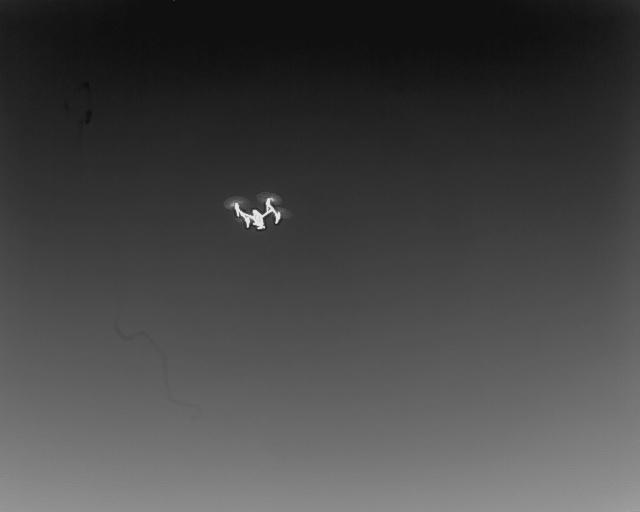drone: (222, 184, 297, 242)
